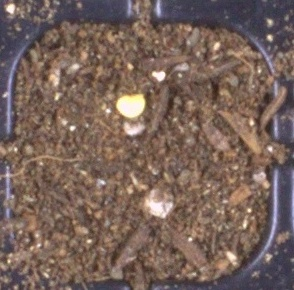chilli seed: (115, 93, 146, 118)
